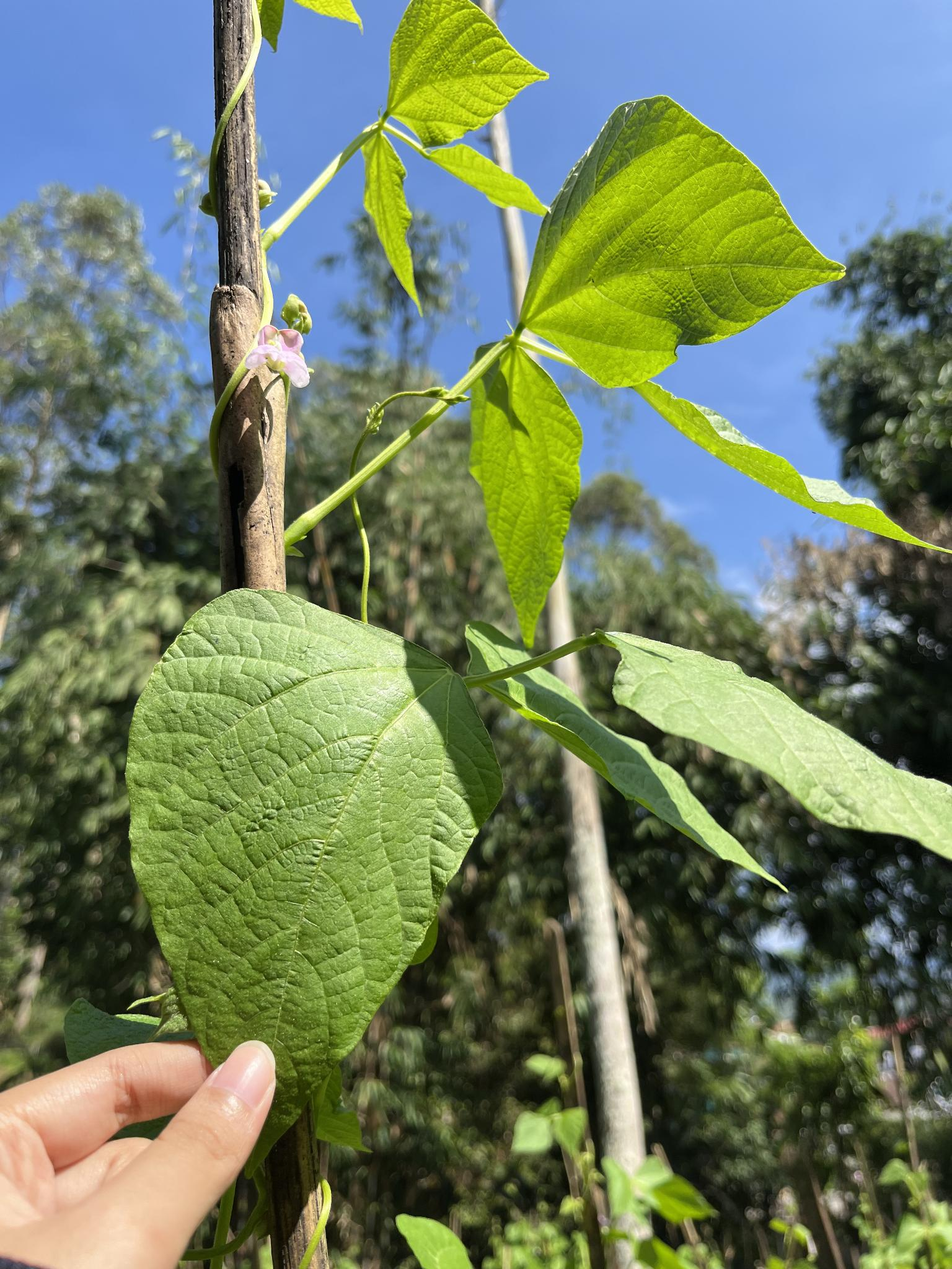sehat: (127, 589, 509, 1183)
